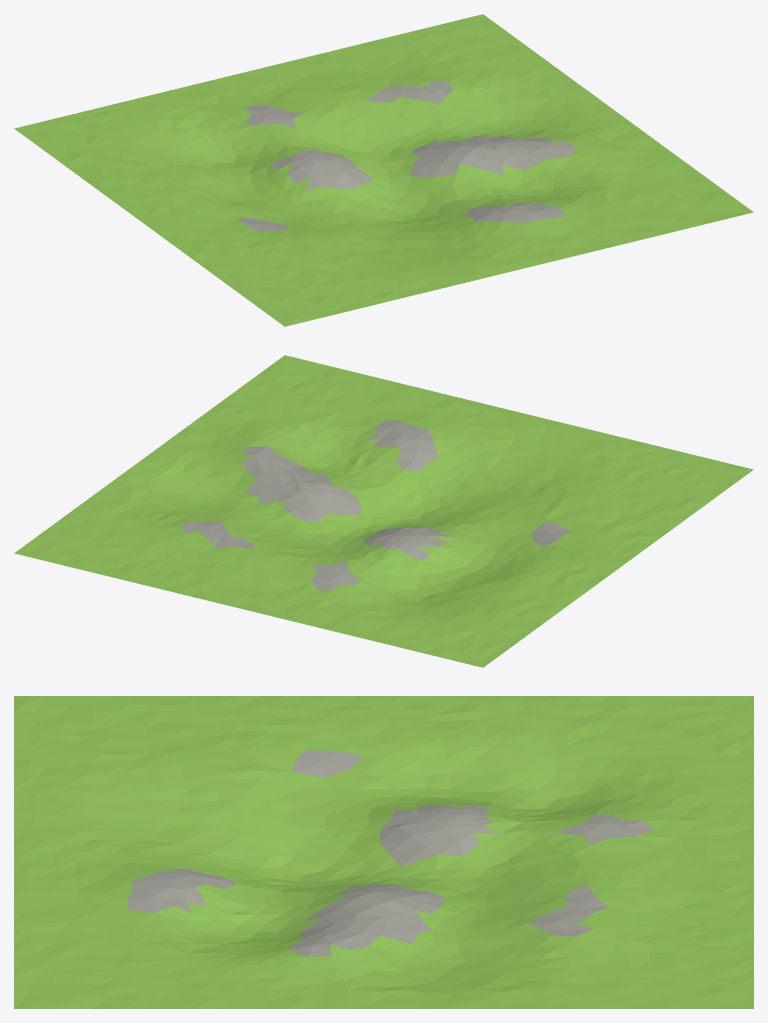
File: terrain_l_c_11.glb
The picture shows the model from 3 angles, top to bottom: view 1: azimuth 30°, elevation 25°; view 2: azimuth 150°, elevation 25°; view 3: azimuth 270°, elevation 25°; orthographic projection. The views are drawn at different scales.
Visible parts, largest first — view 1: CPT_Terrain_L_c_11; view 2: CPT_Terrain_L_c_11; view 3: CPT_Terrain_L_c_11.
Part boxes in pixels (bbox=[...]): CPT_Terrain_L_c_11: bbox=[14, 14, 753, 326]; CPT_Terrain_L_c_11: bbox=[14, 355, 753, 667]; CPT_Terrain_L_c_11: bbox=[14, 696, 753, 1008].
Bounding box in the file's own units: 100 × 5.51 × 100.
Materials: 1 (1 with a texture image).
